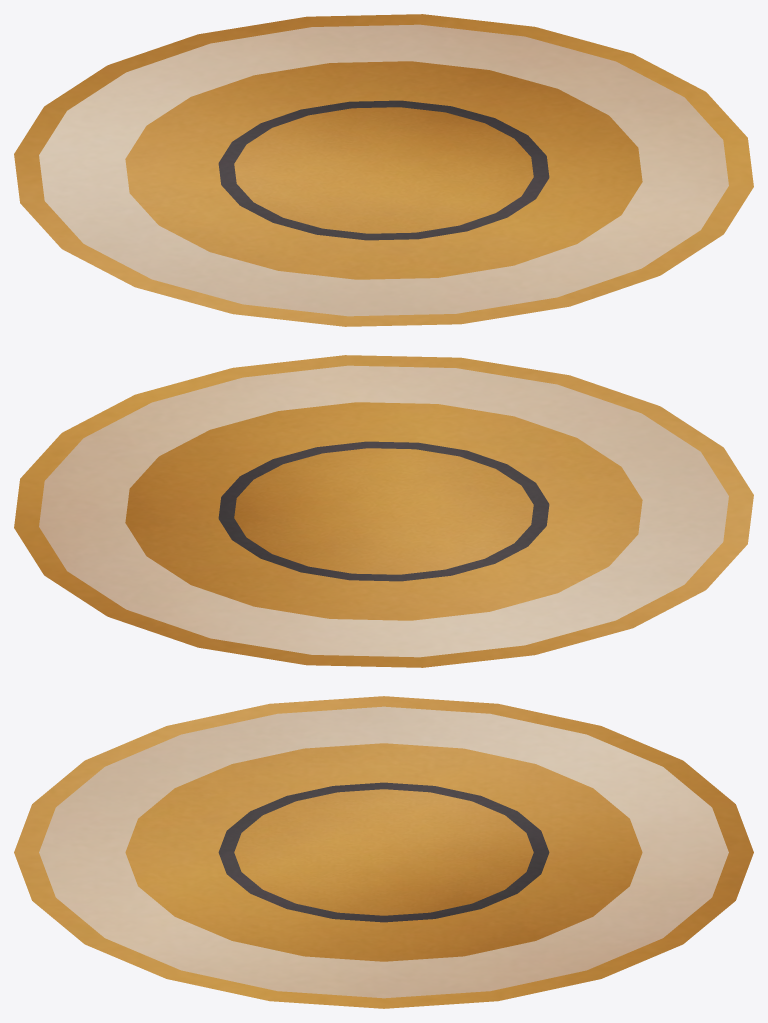
File: SM_cermeon_rug_03.fbx
The picture shows the model from 3 angles, top to bottom: view 1: azimuth 30°, elevation 25°; view 2: azimuth 150°, elevation 25°; view 3: azimuth 270°, elevation 25°; orthographic projection.
Parts seen in each view (by area): view 1: SM_cermeon_rug_03; view 2: SM_cermeon_rug_03; view 3: SM_cermeon_rug_03.
Part boxes in pixels (box(x1,y1,x2,y2)): SM_cermeon_rug_03: box(14, 14, 753, 326); SM_cermeon_rug_03: box(14, 355, 753, 667); SM_cermeon_rug_03: box(14, 696, 753, 1008).
Bounding box in the file's own units: 3.99 × 0 × 3.99.
